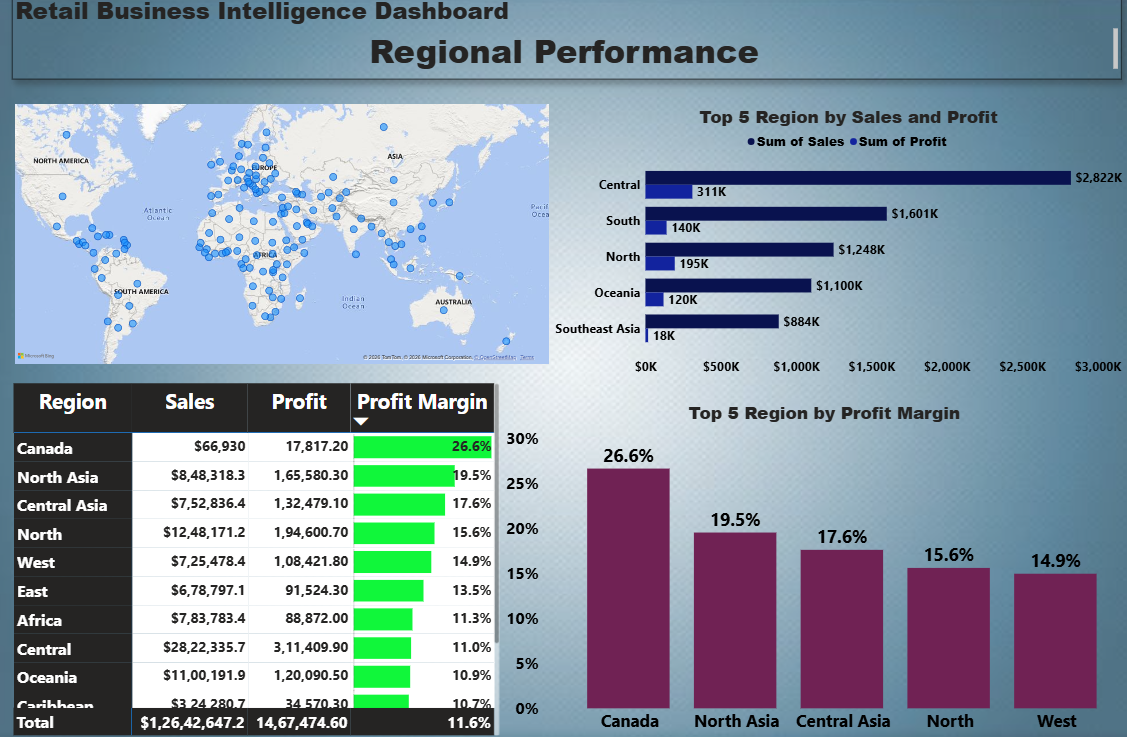

What the dashboard file says about the page in this screenshot:
{"tool":"powerbi","page":{"name":"Page 2","canvas":[2000,1300],"ordinal":1},"visuals":[{"type":"textbox","title":"Retail Business Intelligence Dashboard","box":[26.7,0,1933.3,150],"z":0},{"type":"clusteredBarChart","title":"Top 5 Region by Sales and Profit","fields":{"Category":["cleaned_data.Region"],"Y":["Sum(cleaned_data.Sales)","Sum(cleaned_data.Profit)"]},"box":[966.7,193.3,1033.3,483.3],"z":1000},{"type":"clusteredColumnChart","title":"Top 5 Region by Profit Margin","fields":{"Category":["cleaned_data.Region"],"Y":["cleaned_data.Profit Margin"]},"box":[881.2,709.4,1118.8,590.6],"z":2000},{"type":"pivotTable","fields":{"Rows":["cleaned_data.Region"],"Values":["Sum(cleaned_data.Sales)","Sum(cleaned_data.Profit)","cleaned_data.Profit Margin"]},"box":[25,675,856.2,625],"z":3000},{"type":"map","fields":{"Category":["cleaned_data.Country"]},"box":[27,193,940,482],"z":4000}]}

Visuals, with their boxes in screenshot pixels (x1, y1, x2, y2), scaled from the page's 2000x1300 canvas onto the 1127x737 screenshot:
"Retail Business Intelligence Dashboard" textbox: box=[15, 0, 1104, 85]
"Top 5 Region by Sales and Profit" clusteredBarChart: box=[545, 110, 1126, 384]
"Top 5 Region by Profit Margin" clusteredColumnChart: box=[497, 402, 1126, 736]
pivotTable - cleaned_data.Region x Sum(cleaned_data.Sales): box=[14, 383, 497, 736]
map - cleaned_data.Country: box=[15, 109, 545, 383]
